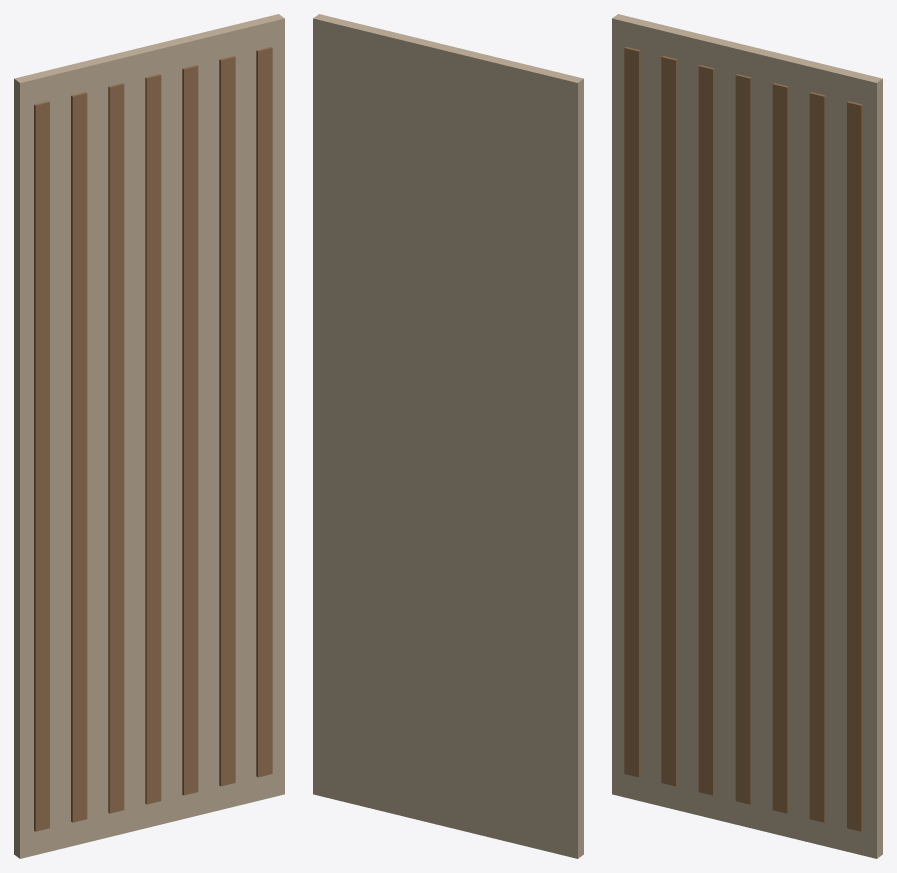
3 views of the same model, side by side, from view 1: azimuth 30°, elevation 25°; view 2: azimuth 150°, elevation 25°; view 3: azimuth 330°, elevation 25° (orthographic).
Visible parts, largest first — view 1: wall-base, slat-1, slat-2, slat-3, slat-4, slat-5, slat-6, slat-0; view 2: wall-base; view 3: wall-base, slat-1, slat-2, slat-3, slat-4, slat-5, slat-0, slat-6.
Boxes of the visible parts, left/top/right/bottom form: wall-base: left=14, top=14, right=284, bottom=858; slat-1: left=71, top=92, right=87, bottom=822; slat-2: left=108, top=83, right=124, bottom=813; slat-3: left=145, top=74, right=161, bottom=804; slat-4: left=182, top=65, right=198, bottom=795; slat-5: left=219, top=56, right=235, bottom=786; slat-6: left=256, top=47, right=272, bottom=777; slat-0: left=34, top=101, right=49, bottom=831; wall-base: left=313, top=14, right=583, bottom=858; wall-base: left=612, top=14, right=882, bottom=858; slat-1: left=661, top=56, right=677, bottom=786; slat-2: left=698, top=65, right=714, bottom=795; slat-3: left=735, top=74, right=751, bottom=804; slat-4: left=772, top=83, right=788, bottom=813; slat-5: left=809, top=92, right=825, bottom=822; slat-0: left=624, top=47, right=640, bottom=777; slat-6: left=847, top=101, right=862, bottom=831.
Bounding box in the file's own units: 1 × 2.8 × 0.05.
